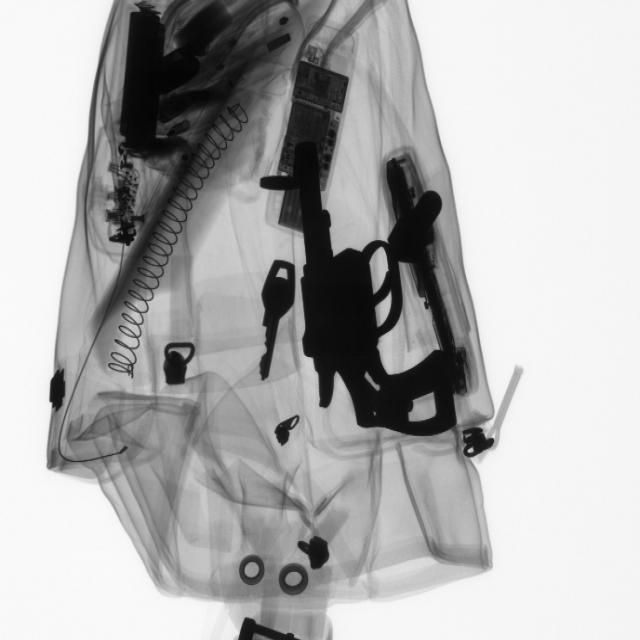GUN: (290, 142, 447, 444)
